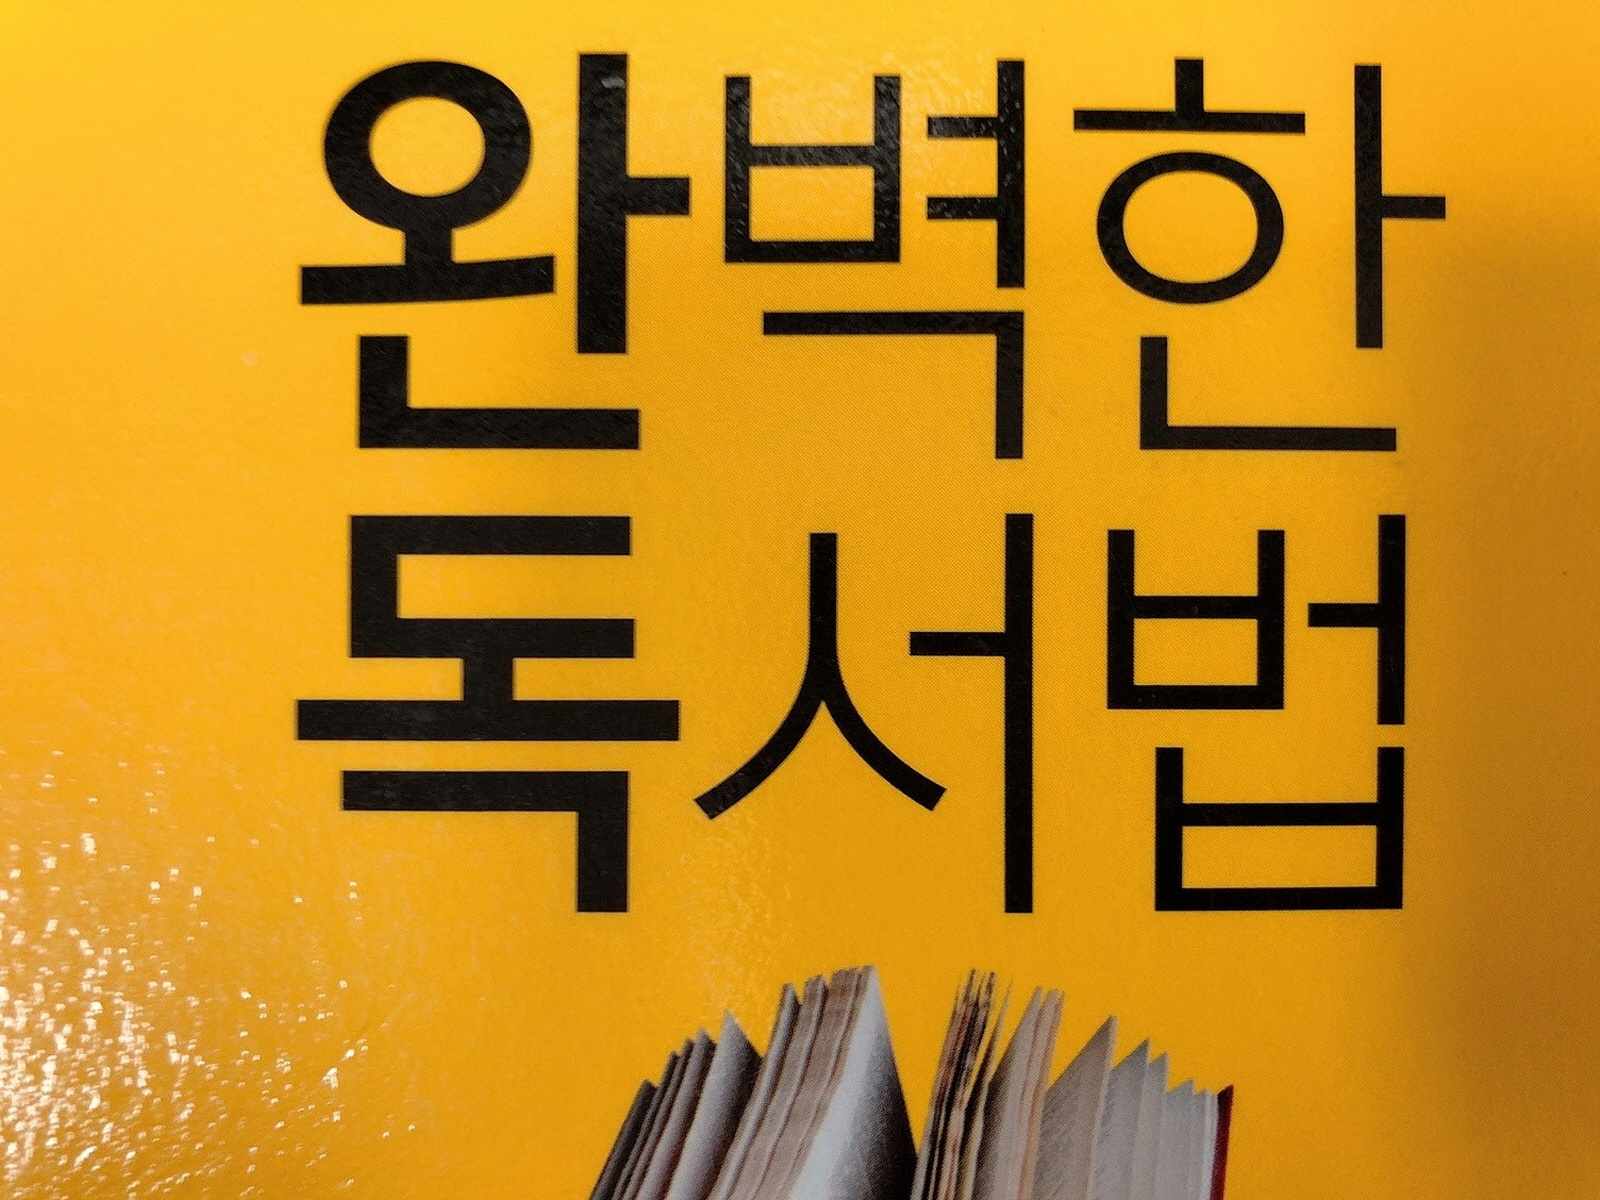text: (238, 483, 1477, 959), (218, 24, 1495, 470)
